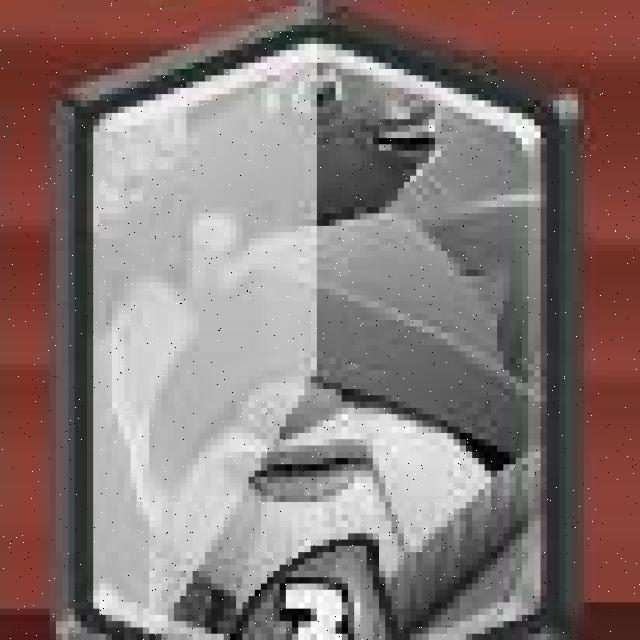Fisherman: (64, 9, 569, 640)
